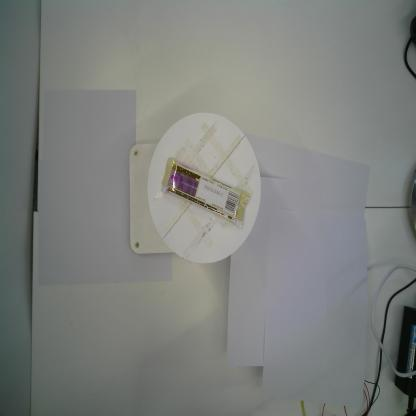Chocolate: (160, 156, 250, 229)
